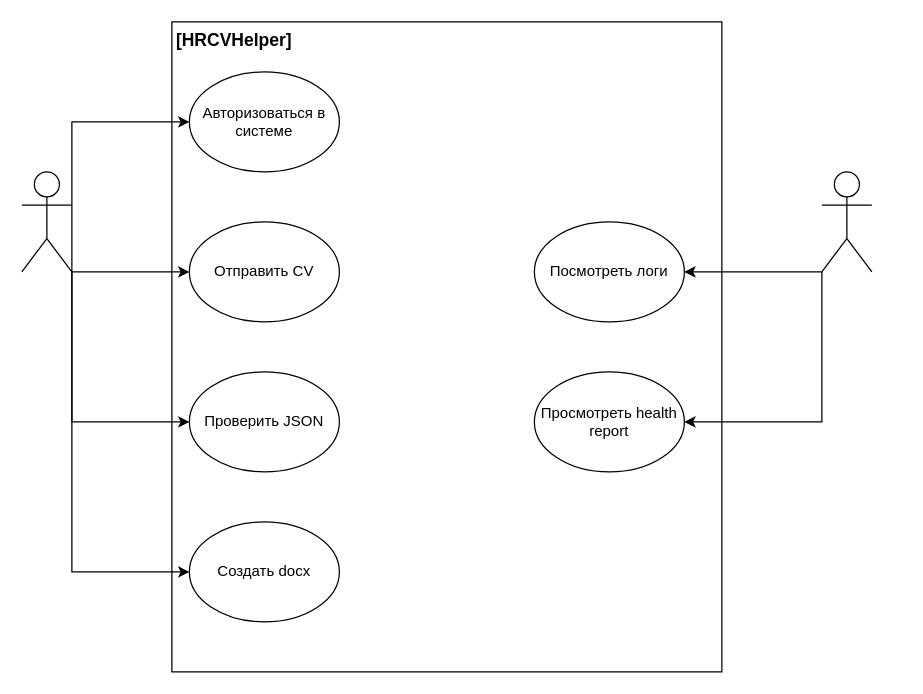
Image size: 923x694. Some labels were removed from this diagram. The centre of each missing label's shape, as x and y in pixels:
"HR" goes at [46,221].
"Администратор" goes at [846,221].
